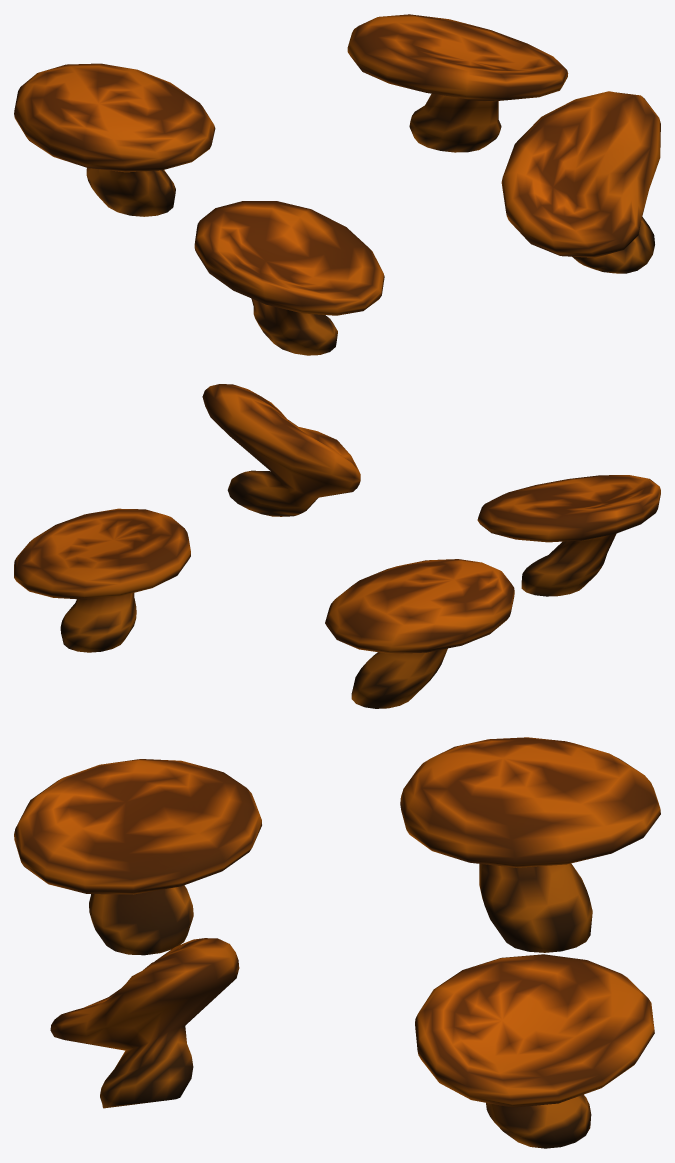
File: Farm_Crop_Mashroom_01_Dead.fbx
3 renders of one model, top to bottom at view 1: azimuth 30°, elevation 25°; view 2: azimuth 150°, elevation 25°; view 3: azimuth 270°, elevation 25°, orthographic. The views are drawn at different scales.
Visible parts, largest first — view 1: Farm_Crop_Mashroom_01_Dead; view 2: Farm_Crop_Mashroom_01_Dead; view 3: Farm_Crop_Mashroom_01_Dead.
Boxes of the visible parts, bbox=[...] form: Farm_Crop_Mashroom_01_Dead: bbox=[14, 14, 660, 355]; Farm_Crop_Mashroom_01_Dead: bbox=[14, 384, 660, 708]; Farm_Crop_Mashroom_01_Dead: bbox=[14, 737, 660, 1148].
Size of the model in its own units: 165 by 48 by 155.
